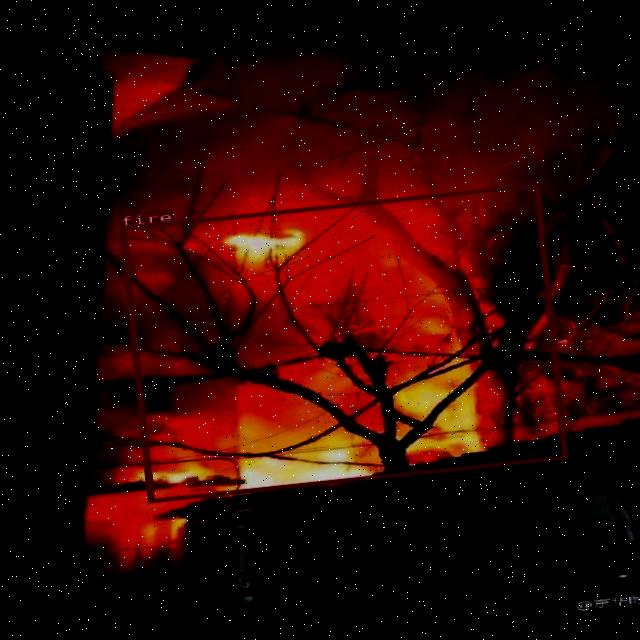fire: (118, 183, 567, 502)
